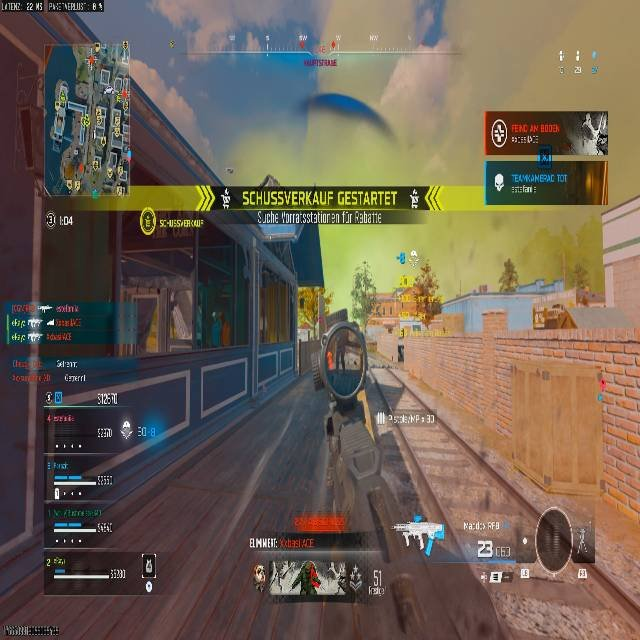player: (397, 342, 405, 362)
